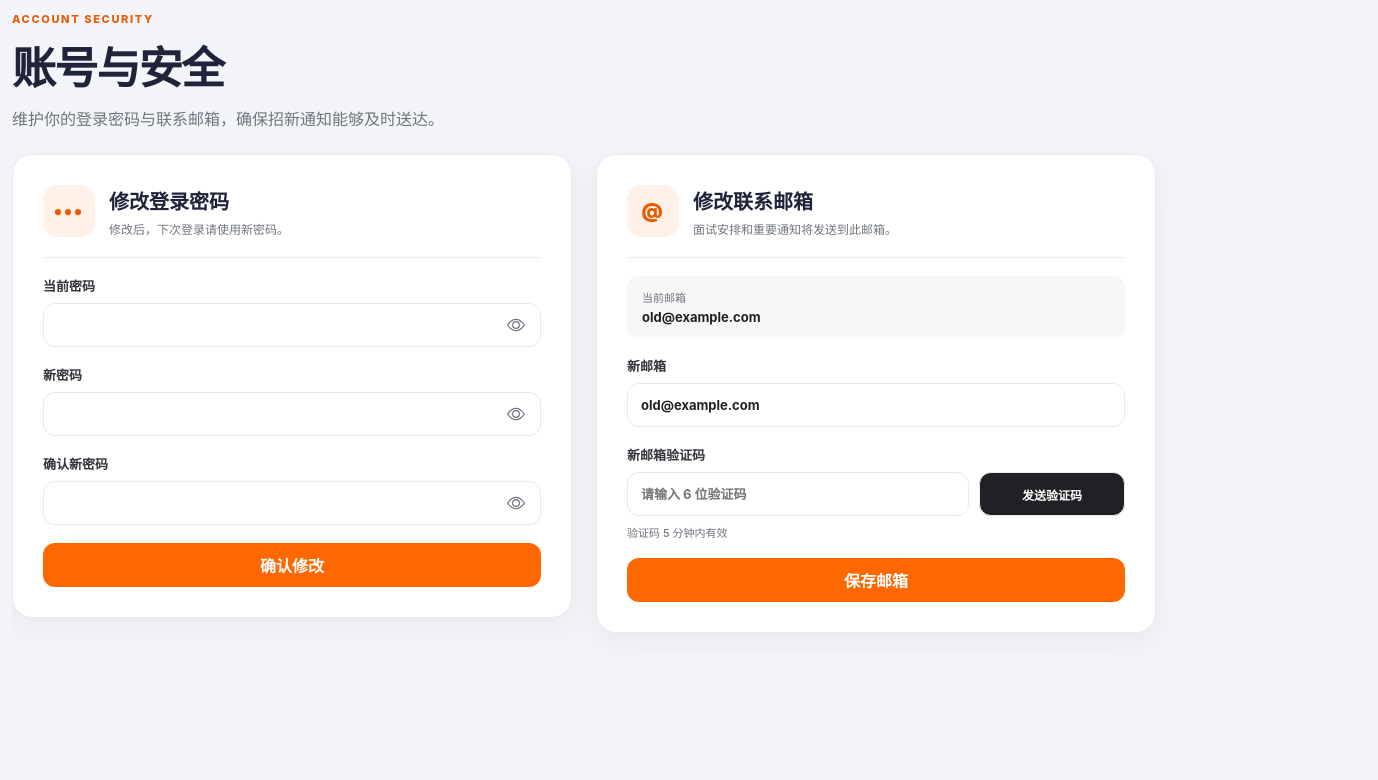
Test case: portal account security › keeps failure visible and never reports success
Type "wrong-old" into the password field named "oldPassword" at point(292, 325), box top-left (43, 303), bottom-right (541, 347)
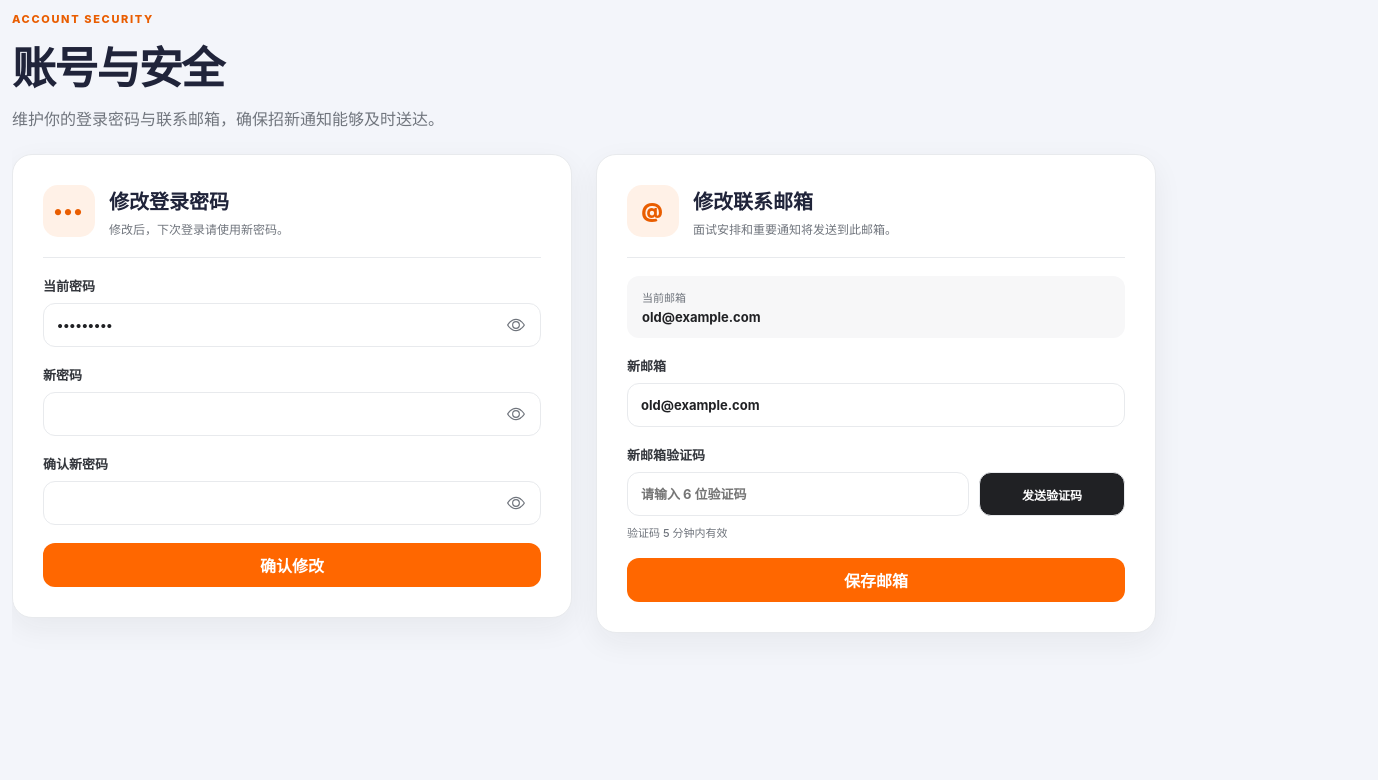
Type "new-secret" into the password field named "newPassword" at point(292, 414), box top-left (43, 392), bottom-right (541, 436)
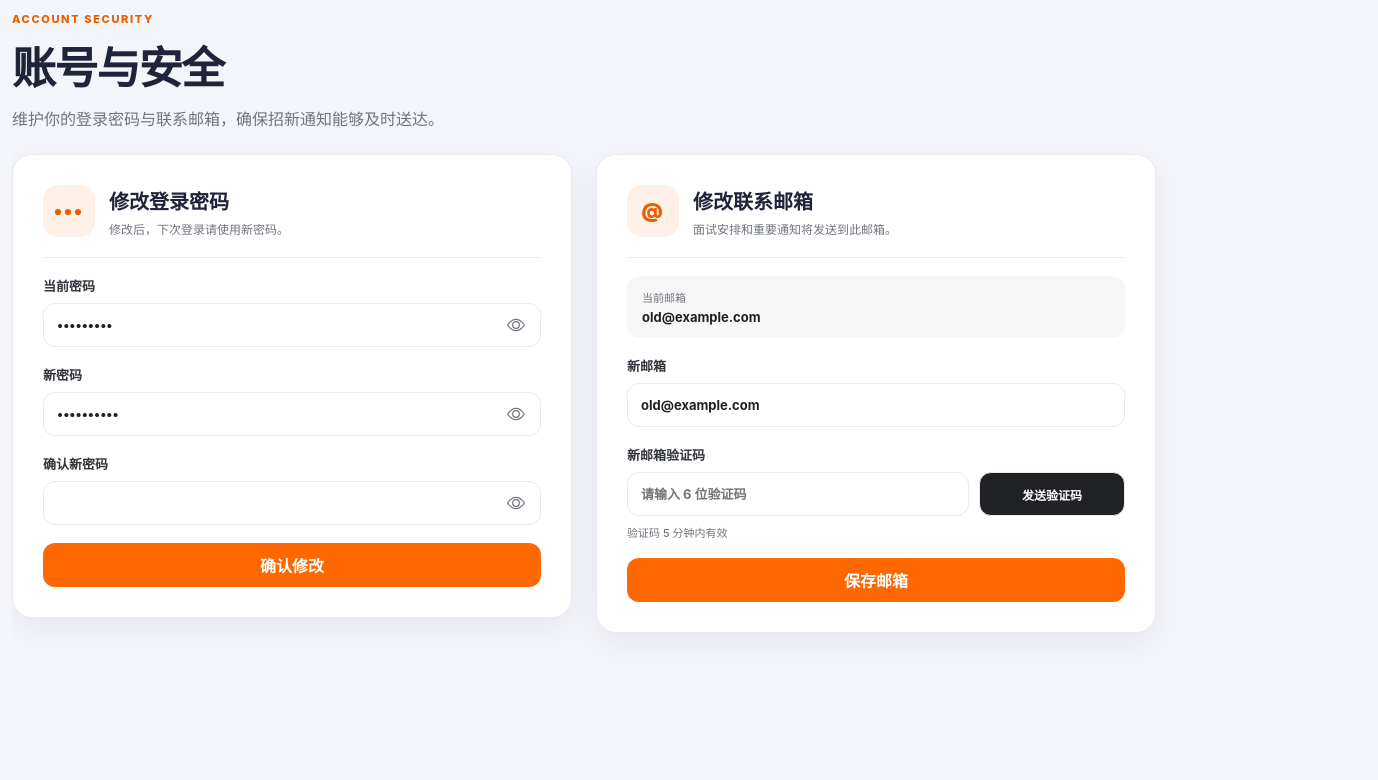
Type "new-secret" into the password field named "confirmPassword" at point(292, 503), box top-left (43, 481), bottom-right (541, 525)
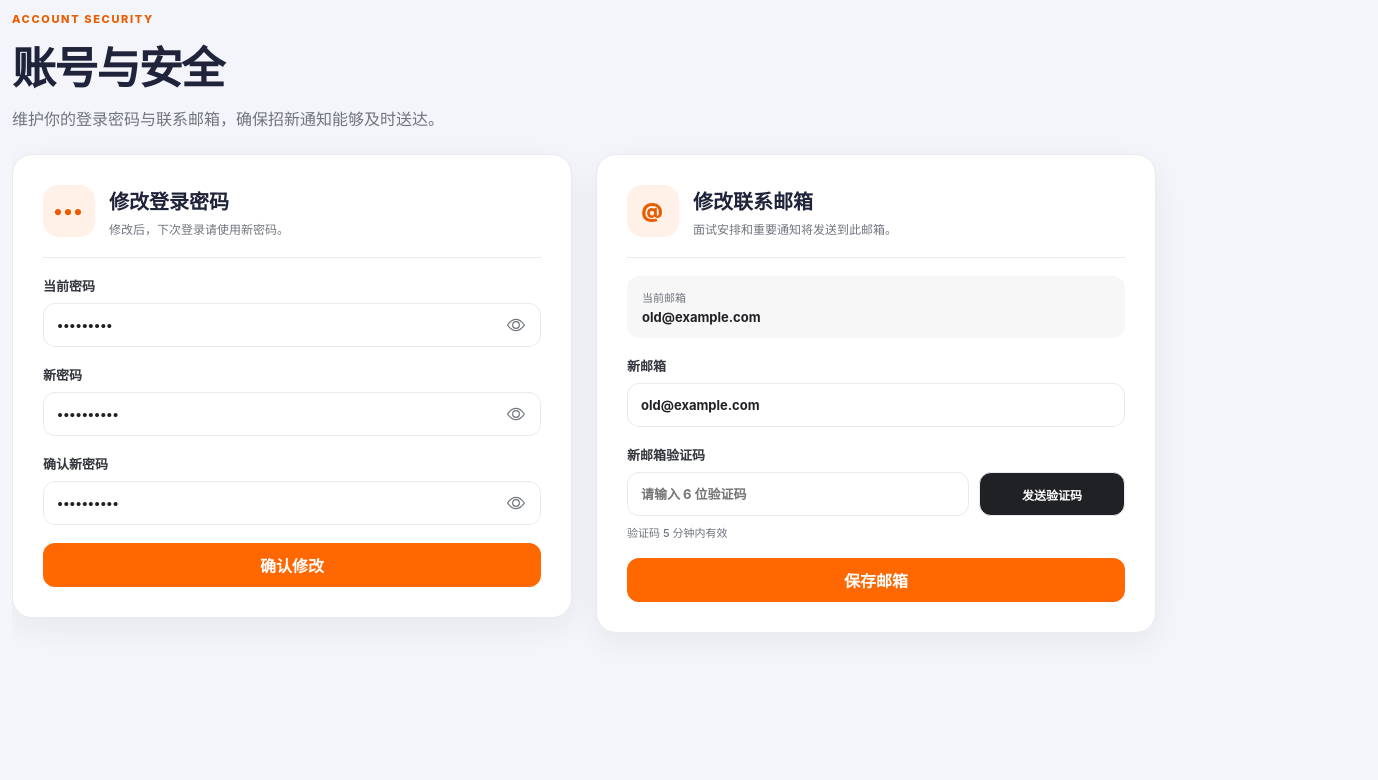
Submit the form "••• 修改登录密码 修改后，下次登录请使用新密码。 当前密码 新密码 确认新密码 确认修改", box top-left (12, 154), bottom-right (572, 618)
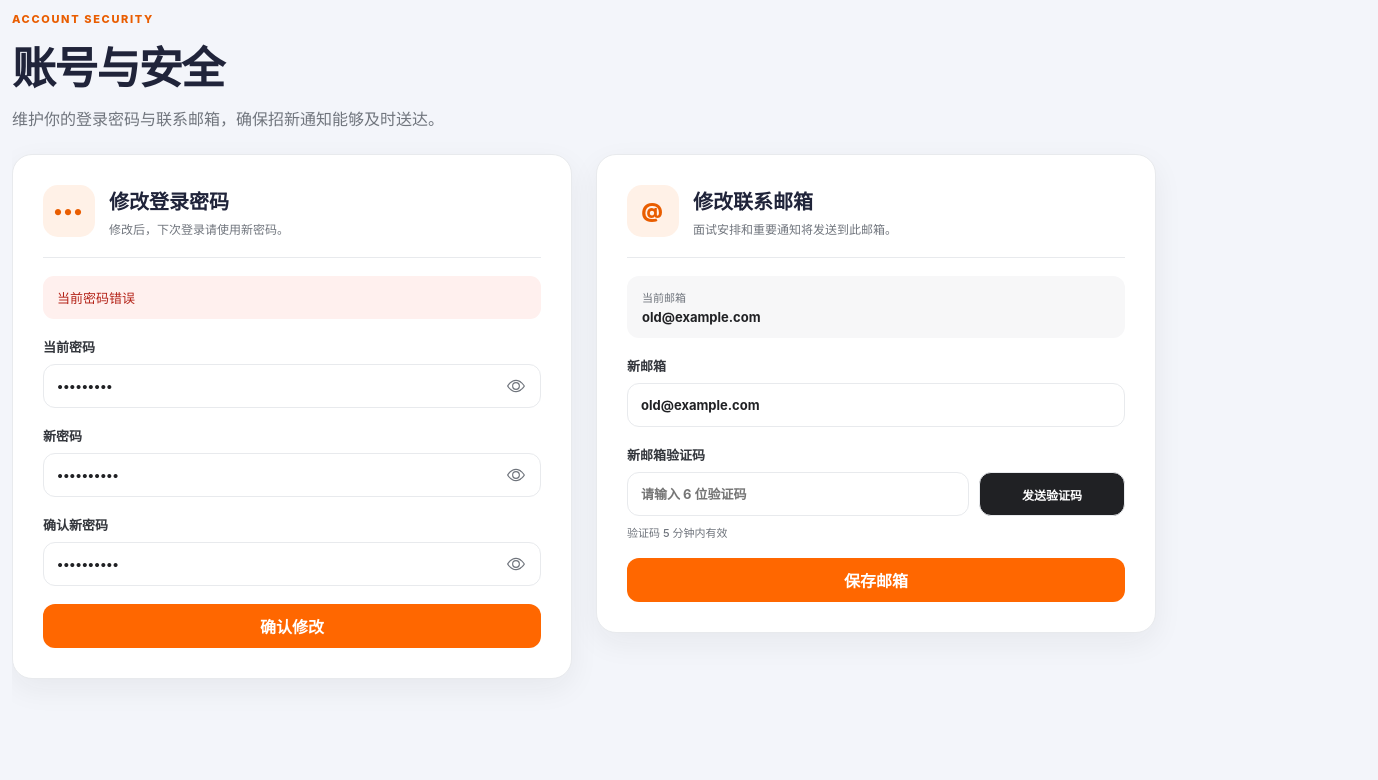
Result: the text "当前密码错误" is shown at top-left (43, 276), bottom-right (541, 319)
